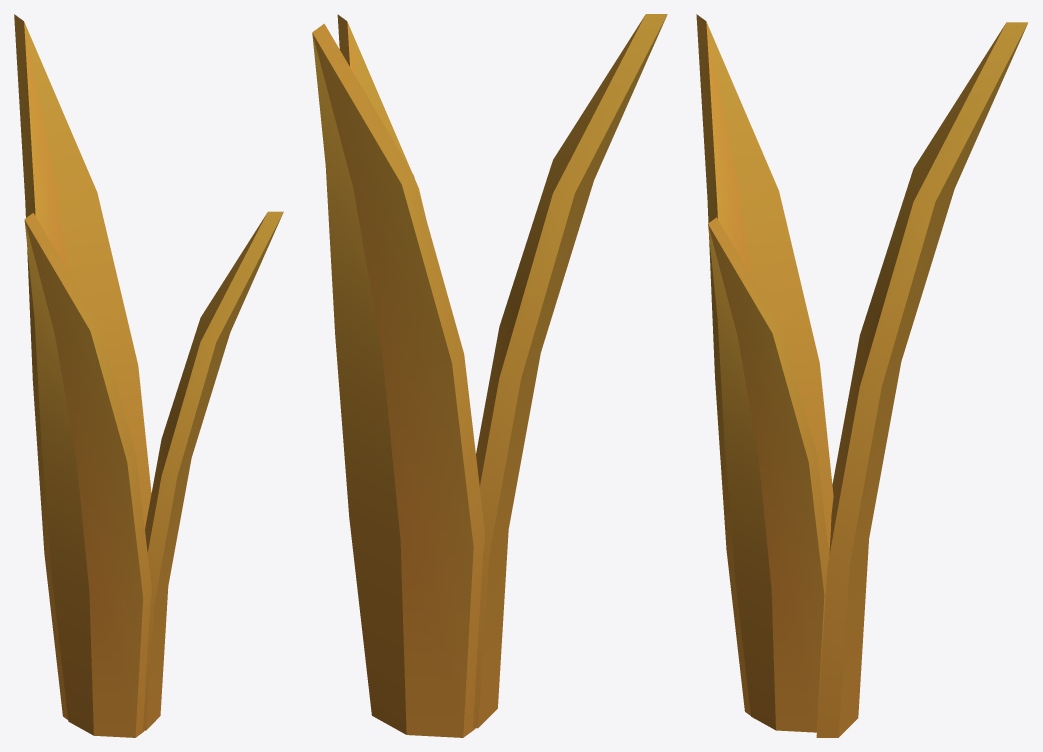
File: grass_tall.gltf
3 views of the same model, side by side, from view 1: azimuth 30°, elevation 25°; view 2: azimuth 150°, elevation 25°; view 3: azimuth 270°, elevation 25° (orthographic). The views are drawn at different scales.
Parts seen in each view (by area): view 1: Grass_2_B_Color1; view 2: Grass_2_B_Color1; view 3: Grass_2_B_Color1.
Boxes of the visible parts, x1,y1,x2,y2 form: Grass_2_B_Color1: [14, 14, 283, 737]; Grass_2_B_Color1: [312, 14, 667, 737]; Grass_2_B_Color1: [696, 14, 1028, 737].
Size of the model in its own units: 0.4035 by 0.9188 by 0.3974.
Materials: 1 (1 with a texture image).
